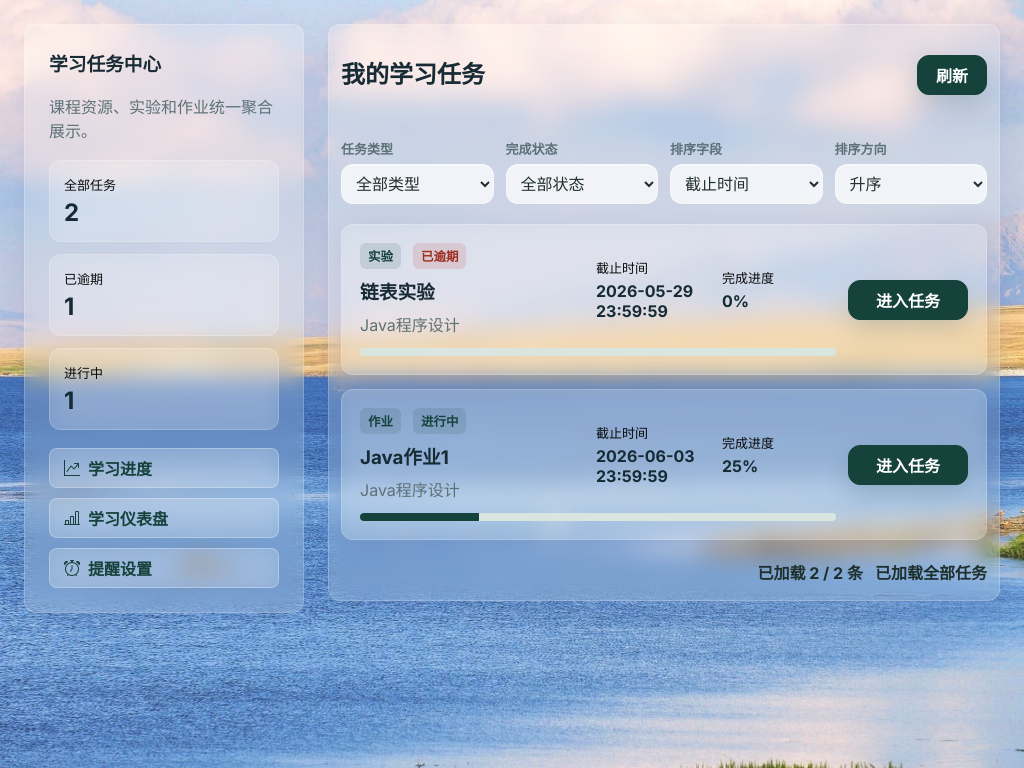
Test case: LearningTaskCenterView › reloads tasks when filters change and shows empty state
Select "作业" in the dropdown named "taskType" at (417, 184), box [341, 164, 494, 204]
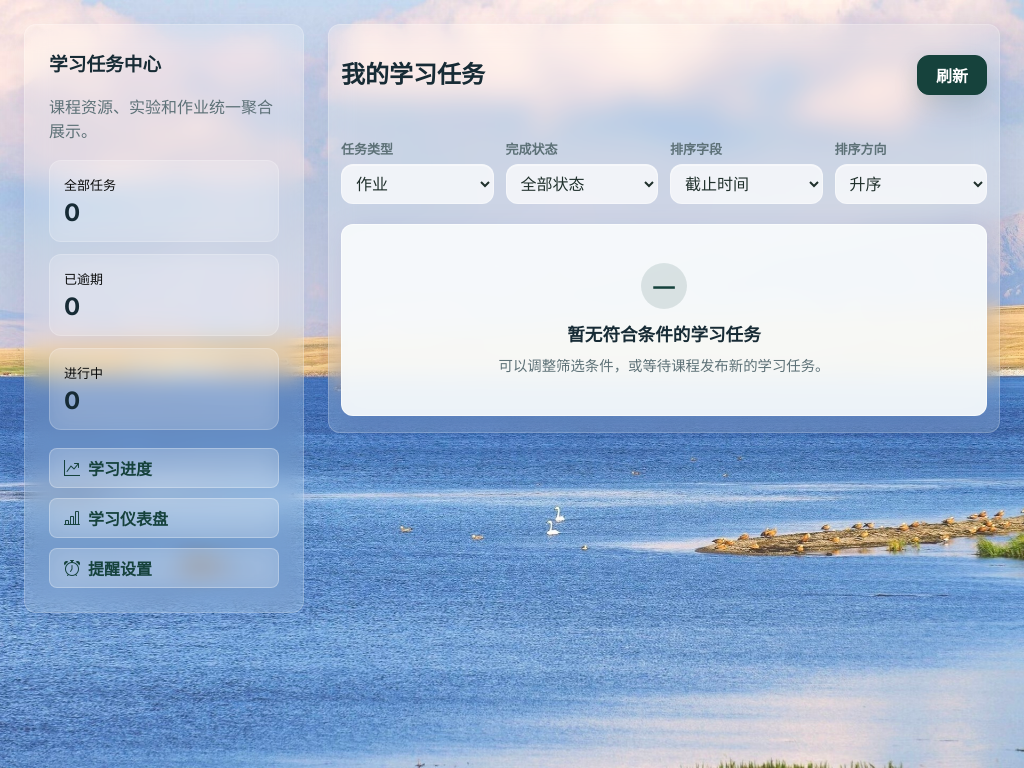
Now the text "暂无符合条件的学习任务" is shown, box [567, 324, 761, 345]
